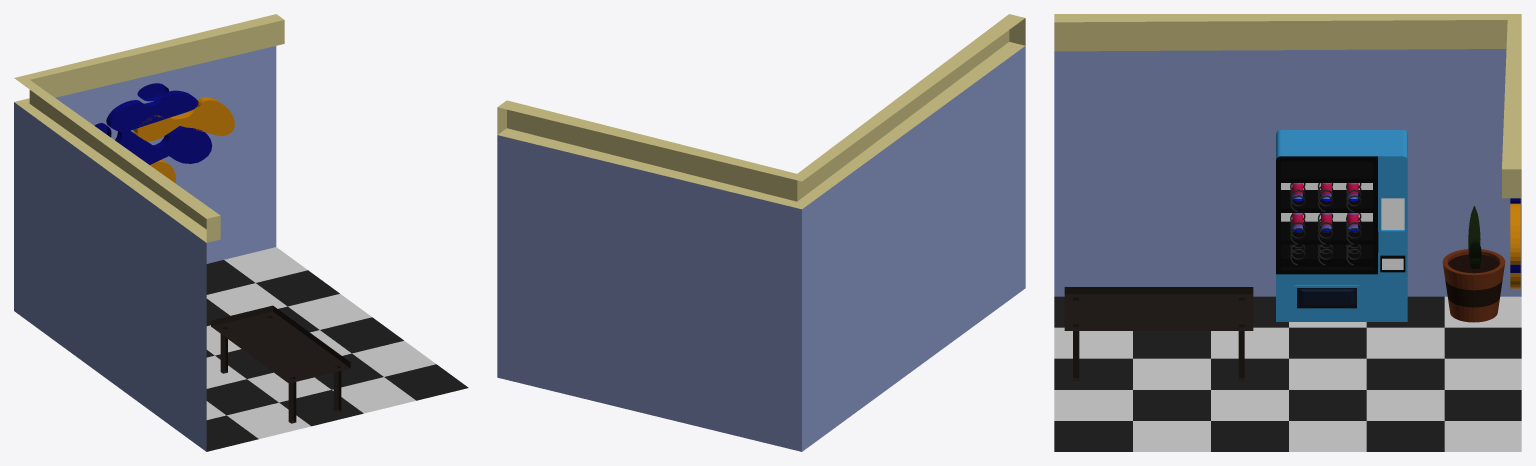
Rendered from Allanim0015.obj.
3 views of the same model, side by side, from view 1: azimuth 30°, elevation 25°; view 2: azimuth 150°, elevation 25°; view 3: azimuth 270°, elevation 25° (orthographic). The views are drawn at different scales.
Visible parts, largest first — view 1: ruangan_Cube.003, meja_Cube.004, logo.001_Circle.019, logo_Circle.006, logo.005_Circle.023; view 2: ruangan_Cube.003; view 3: ruangan_Cube.003, vending_machine_Cube.001, meja_Cube.004, pot_bunga_Cylinder, per_second\_Spiral.010, Plane.007, logo_Circle.006.
Part boxes in pixels (<box>): ruangan_Cube.003: <box>14,14,468,451</box>; meja_Cube.004: <box>211,305,350,423</box>; logo.001_Circle.019: <box>115,126,212,164</box>; logo_Circle.006: <box>133,97,234,141</box>; logo.005_Circle.023: <box>106,90,198,133</box>; ruangan_Cube.003: <box>497,14,1025,451</box>; ruangan_Cube.003: <box>1054,14,1521,451</box>; vending_machine_Cube.001: <box>1276,130,1407,321</box>; meja_Cube.004: <box>1064,287,1253,380</box>; pot_bunga_Cylinder: <box>1442,249,1505,322</box>; per_second\_Spiral.010: <box>1290,183,1361,265</box>; Plane.007: <box>1468,206,1481,268</box>; logo_Circle.006: <box>1510,203,1520,264</box>.
Bounding box in the file's own units: 11.73 × 9.95 × 14.9.
